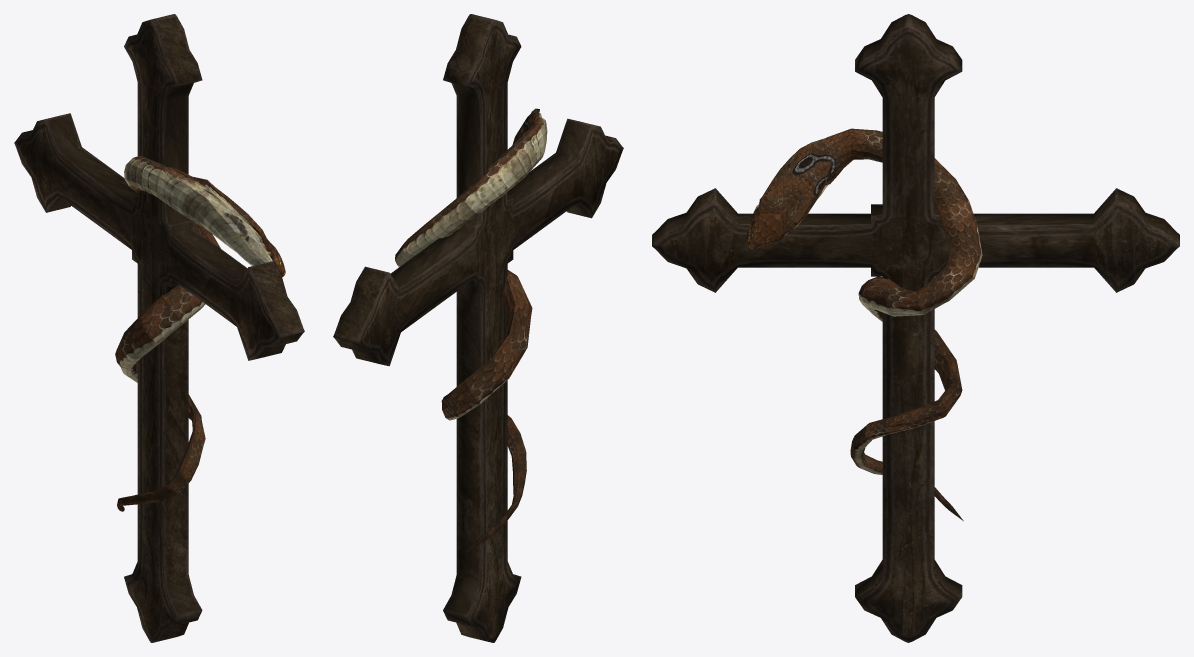
Rendered from CrossSnake.fbx.
The picture shows the model from 3 angles, left to right: view 1: azimuth 30°, elevation 25°; view 2: azimuth 150°, elevation 25°; view 3: azimuth 270°, elevation 25°; orthographic projection.
Visible parts, largest first — view 1: Mesh_1.002; view 2: Mesh_1.002; view 3: Mesh_1.002.
Boxes of the visible parts, bbox=[...] form: Mesh_1.002: bbox=[14, 14, 304, 642]; Mesh_1.002: bbox=[333, 14, 623, 642]; Mesh_1.002: bbox=[652, 14, 1179, 642].
Bounding box in the file's own units: 8.97 × 49.46 × 38.34.
